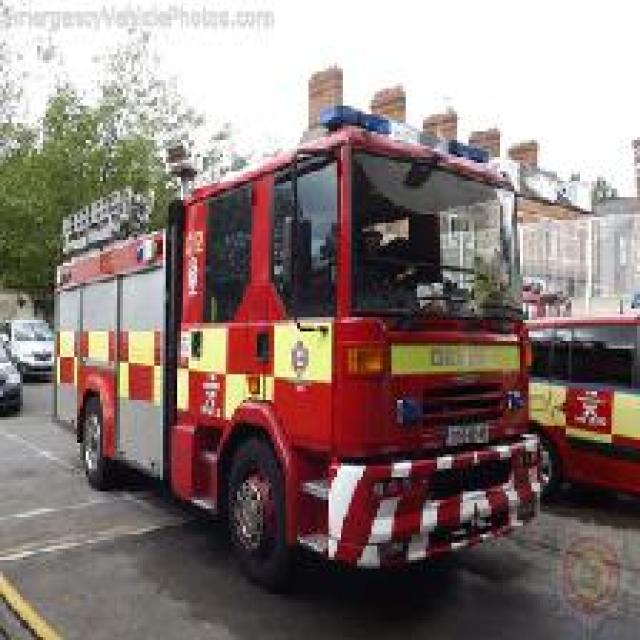Fire-truck: (48, 100, 546, 589)
